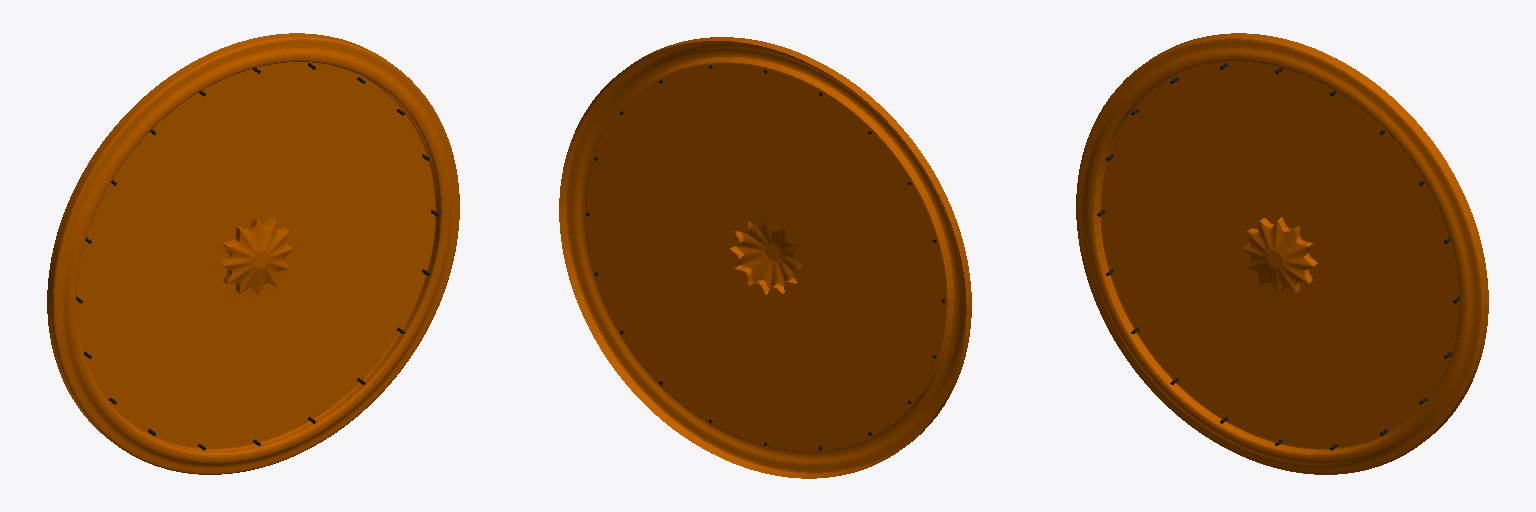
Rendered from rotatingObjects.obj.
3 views of the same model, side by side, from view 1: azimuth 30°, elevation 25°; view 2: azimuth 150°, elevation 25°; view 3: azimuth 330°, elevation 25° (orthographic).
Parts seen in each view (by area): view 1: LotteriSkive; view 2: LotteriSkive; view 3: LotteriSkive.
Boxes of the visible parts, x1=… form: LotteriSkive: x1=47, y1=33, x2=459, y2=474; LotteriSkive: x1=559, y1=37, x2=971, y2=478; LotteriSkive: x1=1076, y1=33, x2=1488, y2=474.
Bounding box in the file's own units: 2.18 × 2.18 × 0.0944.